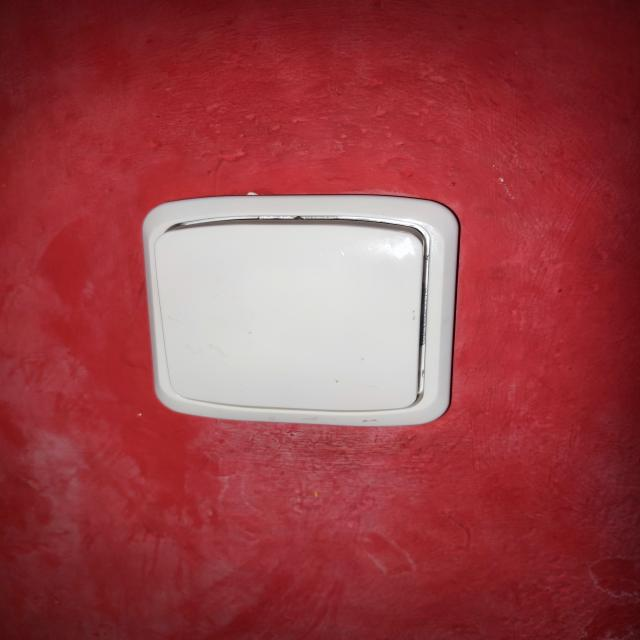house switch: (141, 194, 462, 426)
